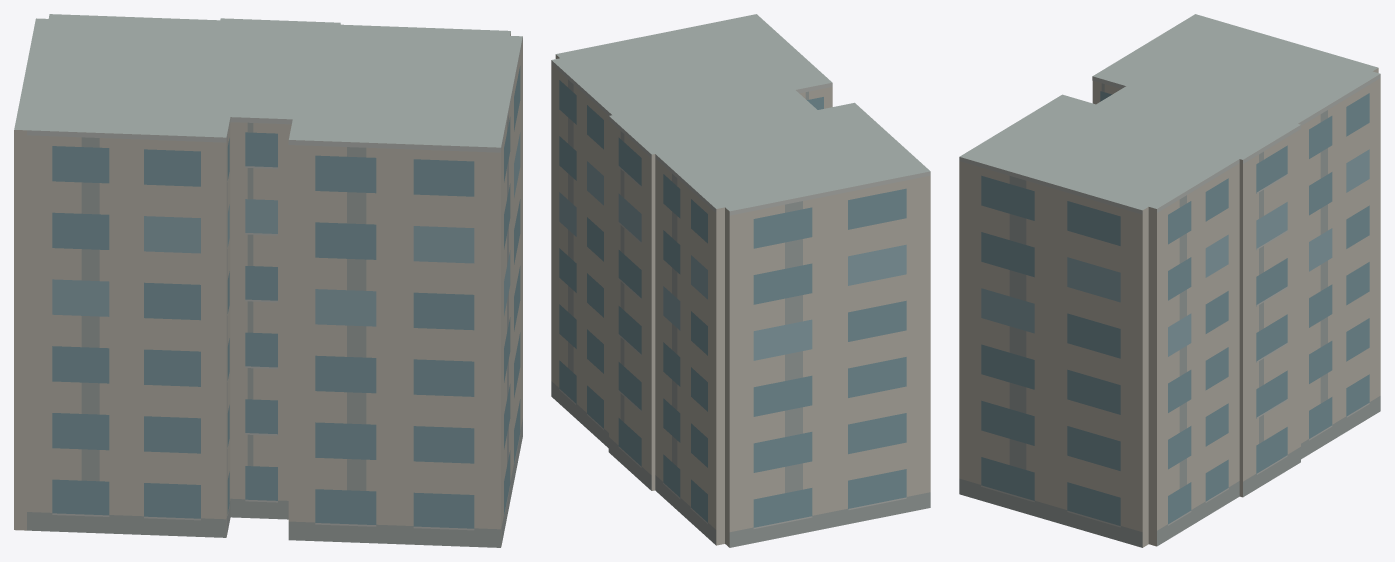
File: survey-upis-32787467.glb
3 renders of one model, left to right at view 1: azimuth 30°, elevation 25°; view 2: azimuth 150°, elevation 25°; view 3: azimuth 270°, elevation 25°, orthographic. The views are drawn at different scales.
Visible parts, largest first — view 1: survey-upis-32787467.tmp; view 2: survey-upis-32787467.tmp; view 3: survey-upis-32787467.tmp.
Part boxes in pixels (x1,y1,x2,y2): survey-upis-32787467.tmp: (14, 14, 522, 547); survey-upis-32787467.tmp: (551, 14, 930, 547); survey-upis-32787467.tmp: (959, 14, 1380, 547).
Bounding box in the file's own units: 24.1 × 19.3 × 21.84.
